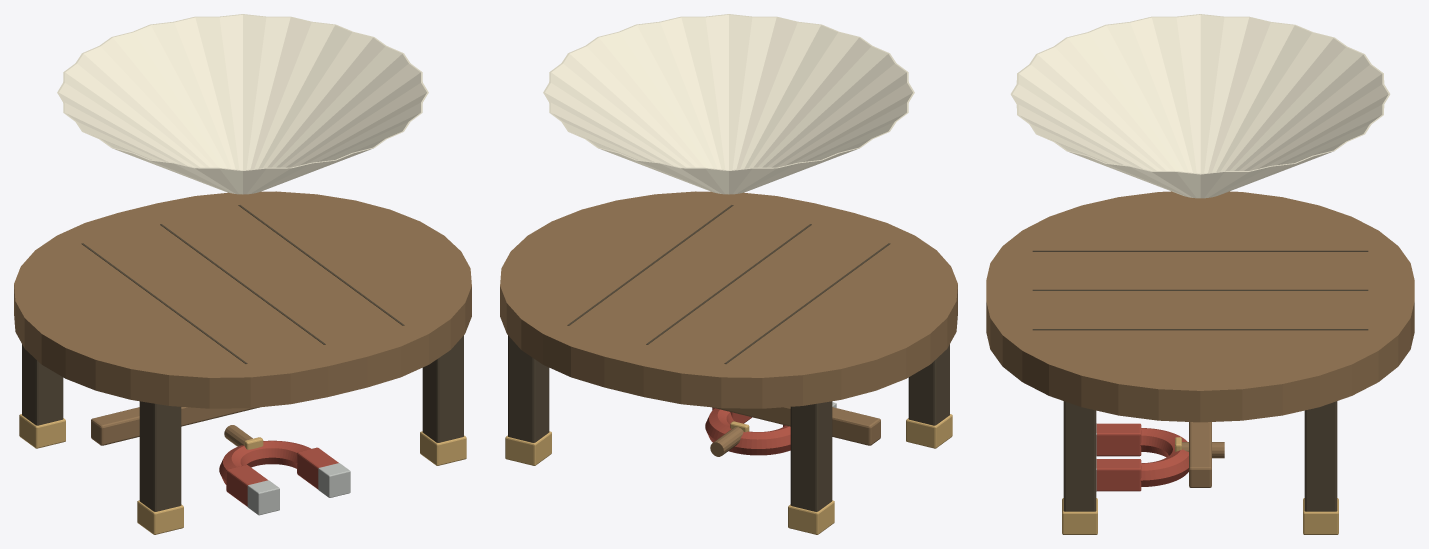
File: separation-tools-v01.glb
3 renders of one model, left to right at view 1: azimuth 30°, elevation 25°; view 2: azimuth 150°, elevation 25°; view 3: azimuth 270°, elevation 25°, orthographic. The views are drawn at different scales.
Visible parts, largest first — view 1: WorkTable Workshop wood, FilterFunnel Workshop paper, WorkTable Workshop edge, InspectionMagnet Workshop magnet, WorkTable Workshop brass, InspectionMagnet Workshop pole; view 2: WorkTable Workshop wood, FilterFunnel Workshop paper, WorkTable Workshop edge, WorkTable Workshop brass, InspectionMagnet Workshop magnet, InspectionMagnet Workshop wood; view 3: WorkTable Workshop wood, FilterFunnel Workshop paper, WorkTable Workshop edge, InspectionMagnet Workshop magnet, WorkTable Workshop brass.
Boxes of the visible parts, x1,y1,x2,y2 form: WorkTable Workshop wood: [14, 191, 471, 445]; FilterFunnel Workshop paper: [57, 14, 428, 194]; WorkTable Workshop edge: [22, 205, 463, 511]; InspectionMagnet Workshop magnet: [219, 440, 338, 506]; WorkTable Workshop brass: [19, 414, 466, 534]; InspectionMagnet Workshop pole: [247, 463, 350, 515]; WorkTable Workshop wood: [500, 191, 957, 445]; FilterFunnel Workshop paper: [543, 14, 914, 194]; WorkTable Workshop edge: [508, 205, 949, 511]; WorkTable Workshop brass: [505, 414, 952, 534]; InspectionMagnet Workshop magnet: [705, 407, 790, 455]; InspectionMagnet Workshop wood: [710, 427, 743, 456]; WorkTable Workshop wood: [986, 191, 1414, 487]; FilterFunnel Workshop paper: [1010, 14, 1390, 198]; WorkTable Workshop edge: [1032, 250, 1368, 511]; InspectionMagnet Workshop magnet: [1096, 423, 1188, 491]; WorkTable Workshop brass: [1062, 498, 1338, 534].
Size of the model in its own units: 2.05 by 1.79 by 1.85.
